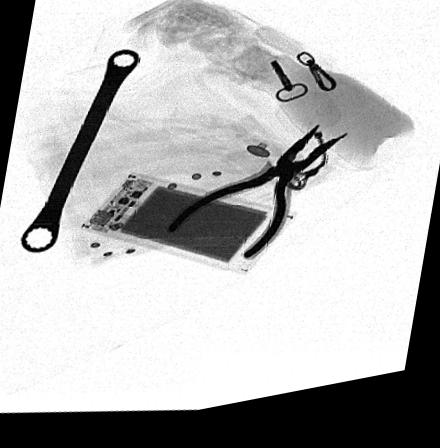Pliers: (164, 137, 348, 269)
Powerbank: (82, 175, 296, 286)
Wrench: (18, 55, 139, 256)
